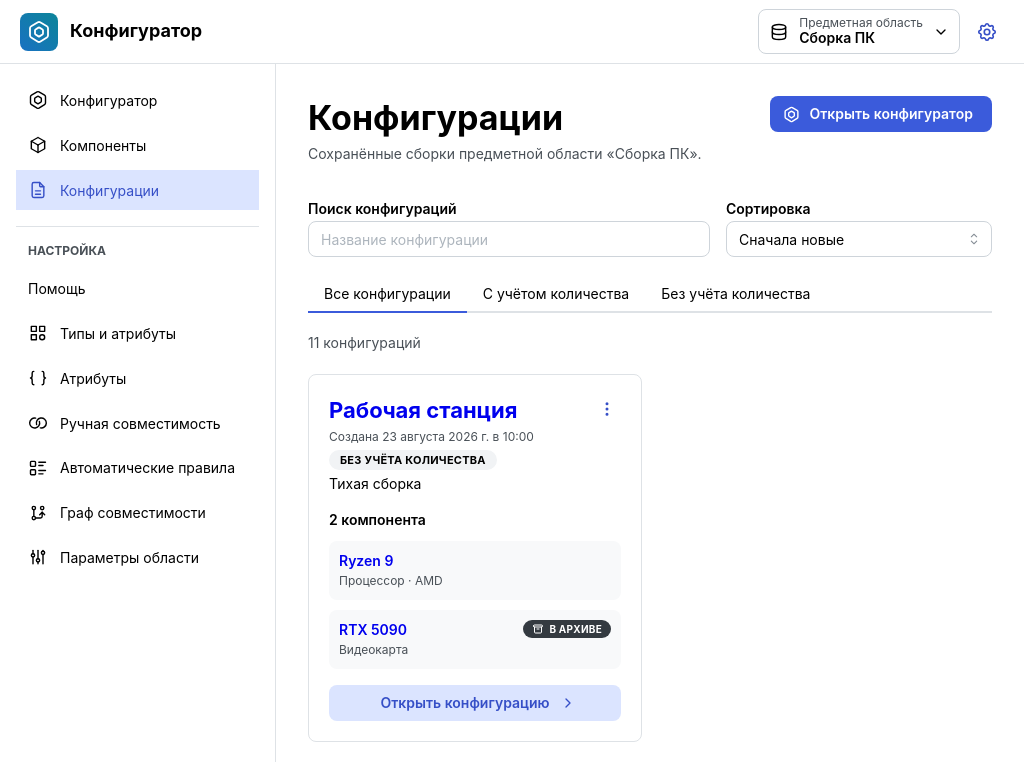
Test: ConfigurationsPage › renders server-ordered cards, archived composition and pagination
expect the heading "Рабочая станция" is shown: met, box [329, 395, 517, 425]
expect the text "Тихая сборка" is shown: met, box [329, 475, 422, 492]
Click the button named "Действия с конфигурацией Рабочая станция" at (607, 409), box [593, 395, 621, 423]
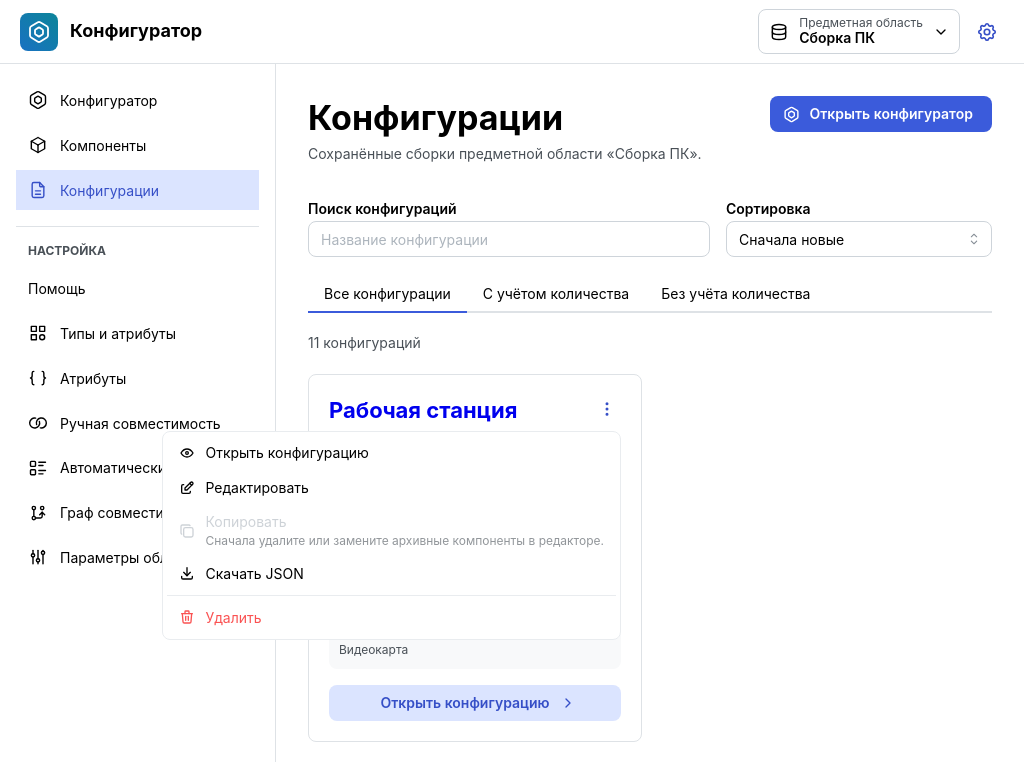
expect the text "Сначала удалите или замените архивные компоненты в редакторе." is shown: met, box [205, 532, 604, 549]
Press Escape
(page scrolled)
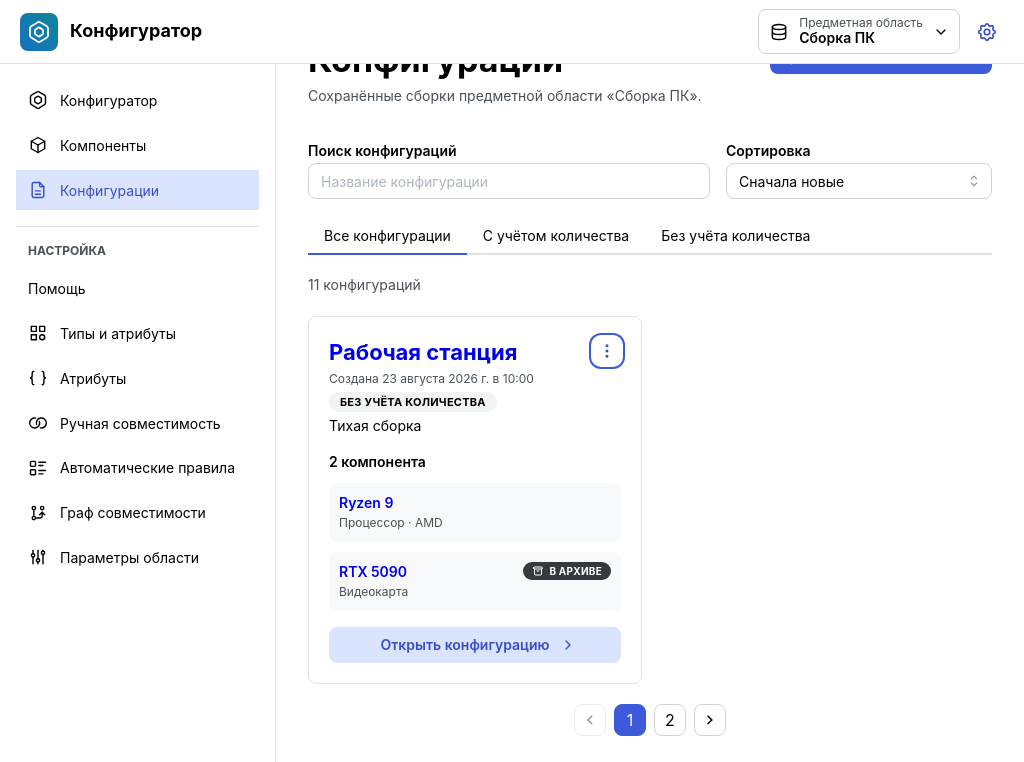
Click the button "2" at (670, 720), box [654, 704, 686, 736]
(page scrolled)
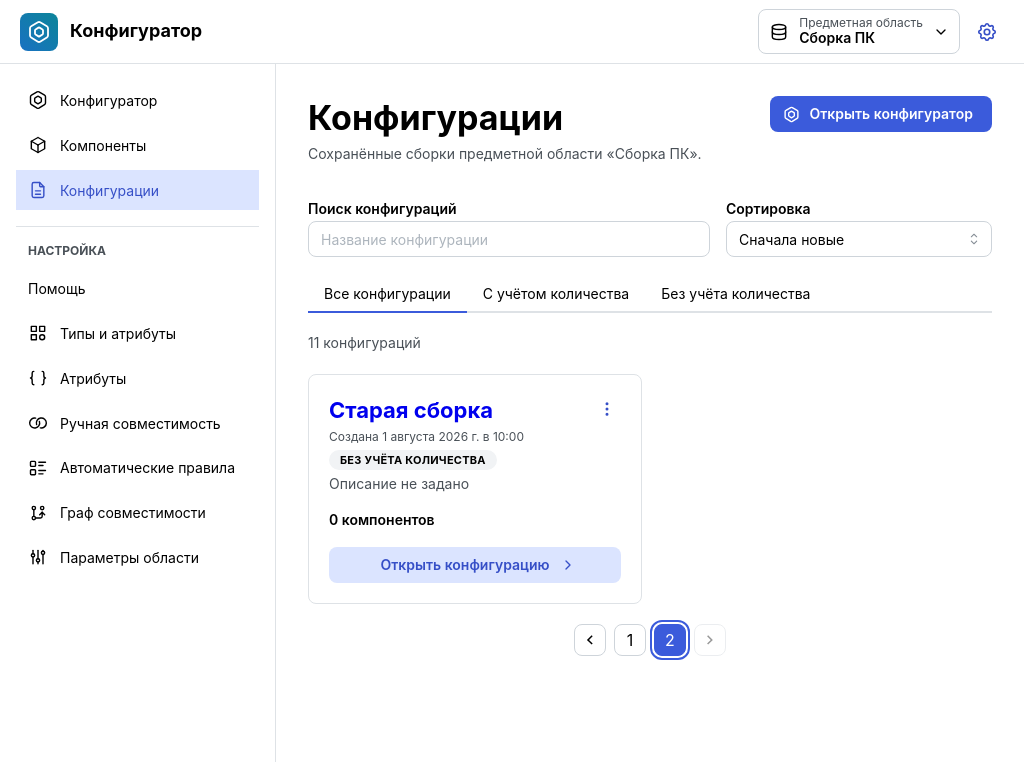
expect the heading "Старая сборка" is shown: met, box [329, 395, 493, 425]
